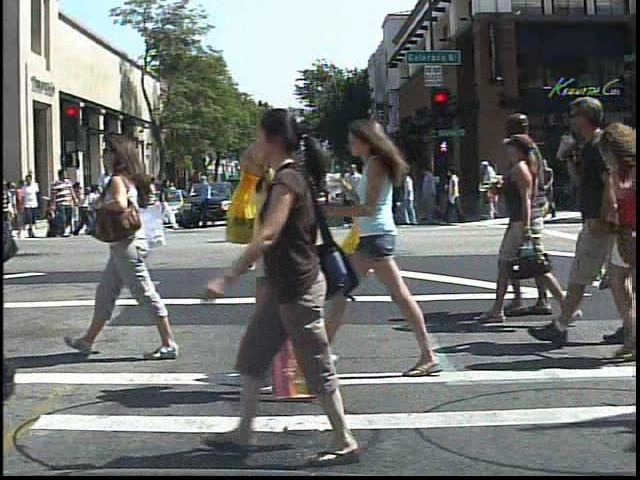person: (227, 105, 383, 470), (333, 109, 477, 385), (219, 116, 350, 397), (83, 123, 185, 365), (549, 80, 616, 352), (95, 160, 129, 241), (49, 164, 80, 242), (477, 156, 503, 224), (19, 170, 41, 238), (100, 178, 120, 221), (163, 175, 182, 211)
